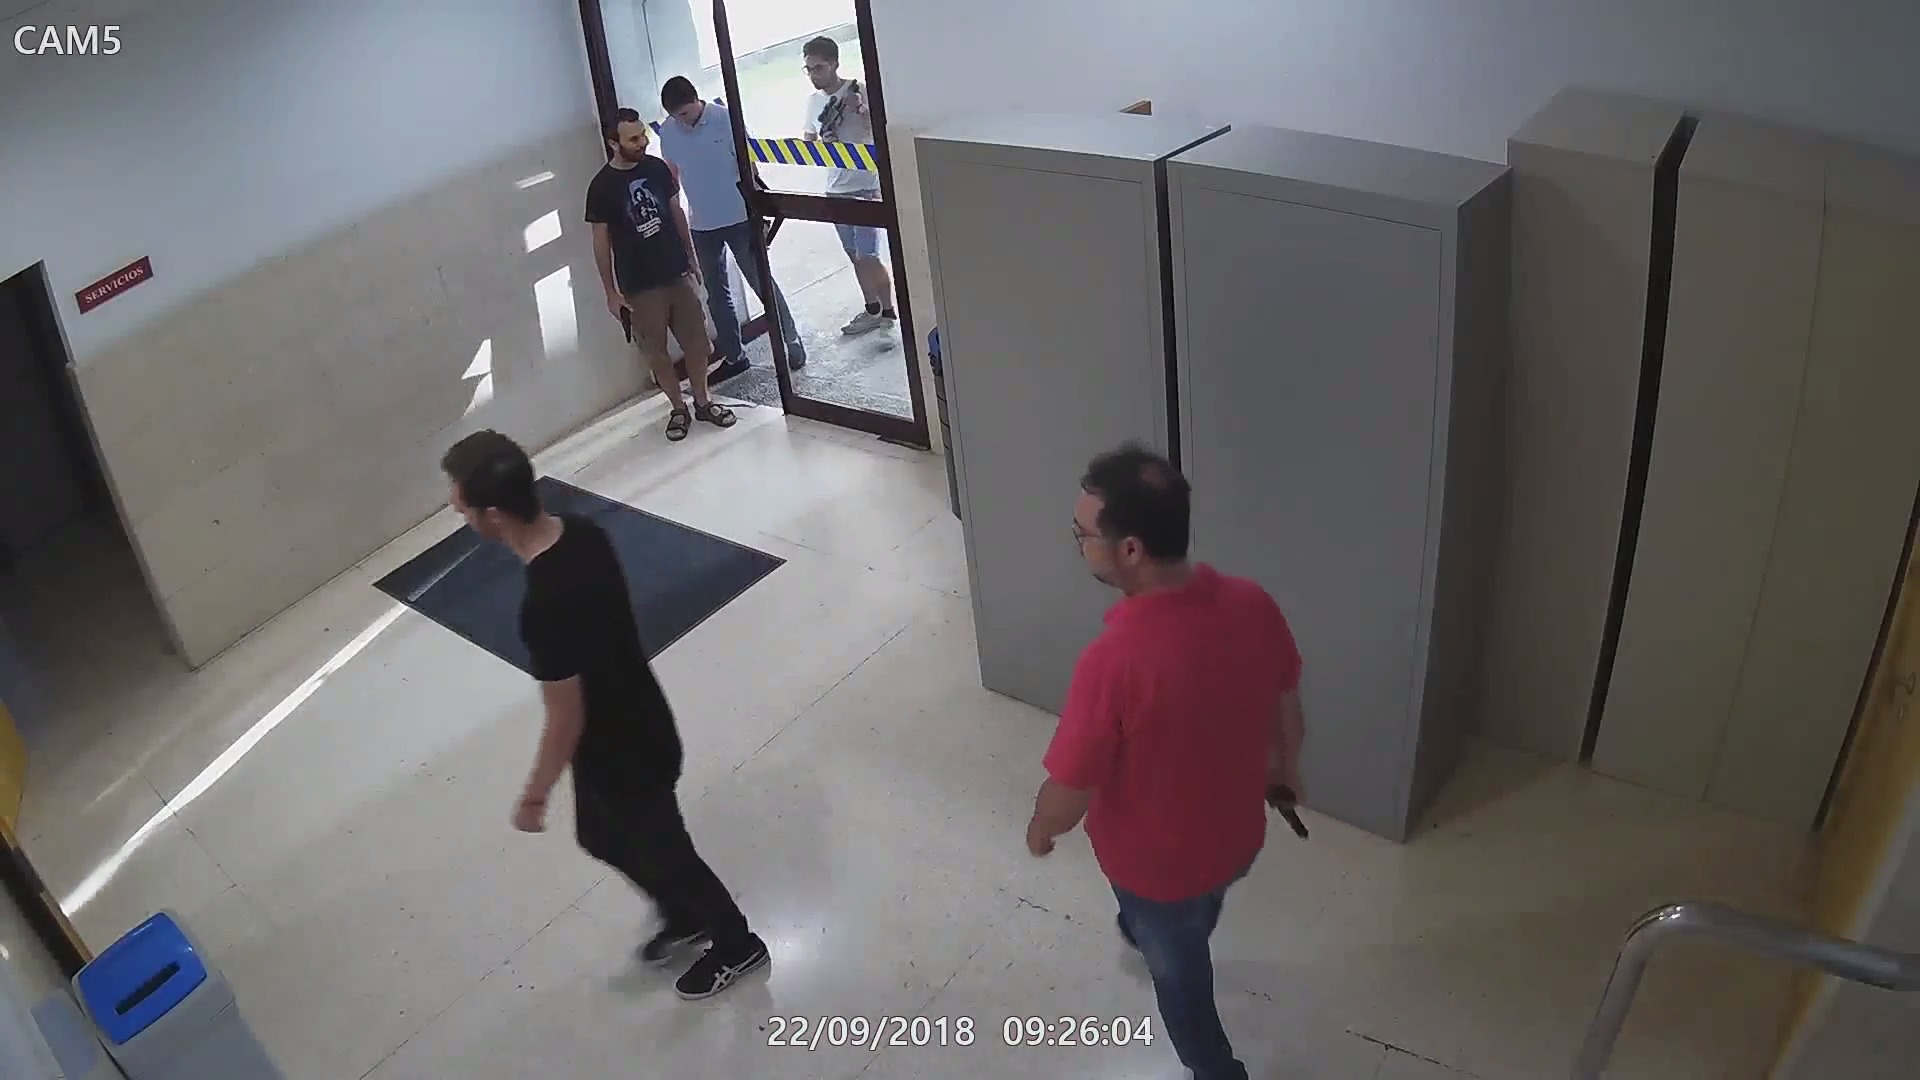Handgun: (1255, 762, 1309, 832), (604, 286, 641, 349)
Short_rifle: (800, 79, 858, 142)
